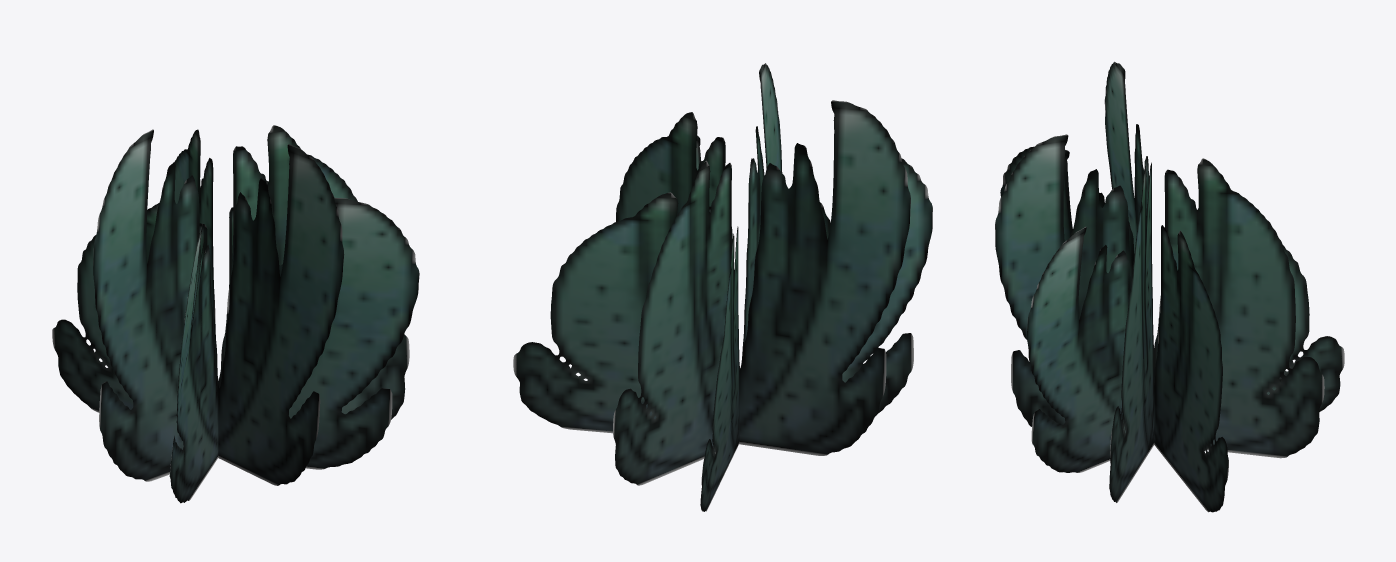
The model's file is Notacactus.fbx.
The picture shows the model from 3 angles, left to right: view 1: azimuth 30°, elevation 25°; view 2: azimuth 150°, elevation 25°; view 3: azimuth 270°, elevation 25°; orthographic projection. The views are drawn at different scales.
Parts seen in each view (by area): view 1: Notacactus; view 2: Notacactus; view 3: Notacactus.
Boxes of the visible parts, <box> form: Notacactus: <box>52,125,419,503</box>; Notacactus: <box>513,63,932,511</box>; Notacactus: <box>995,61,1344,512</box>.
Size of the model in its own units: 431 by 400 by 411.
Materials: 1 (1 with a texture image).
